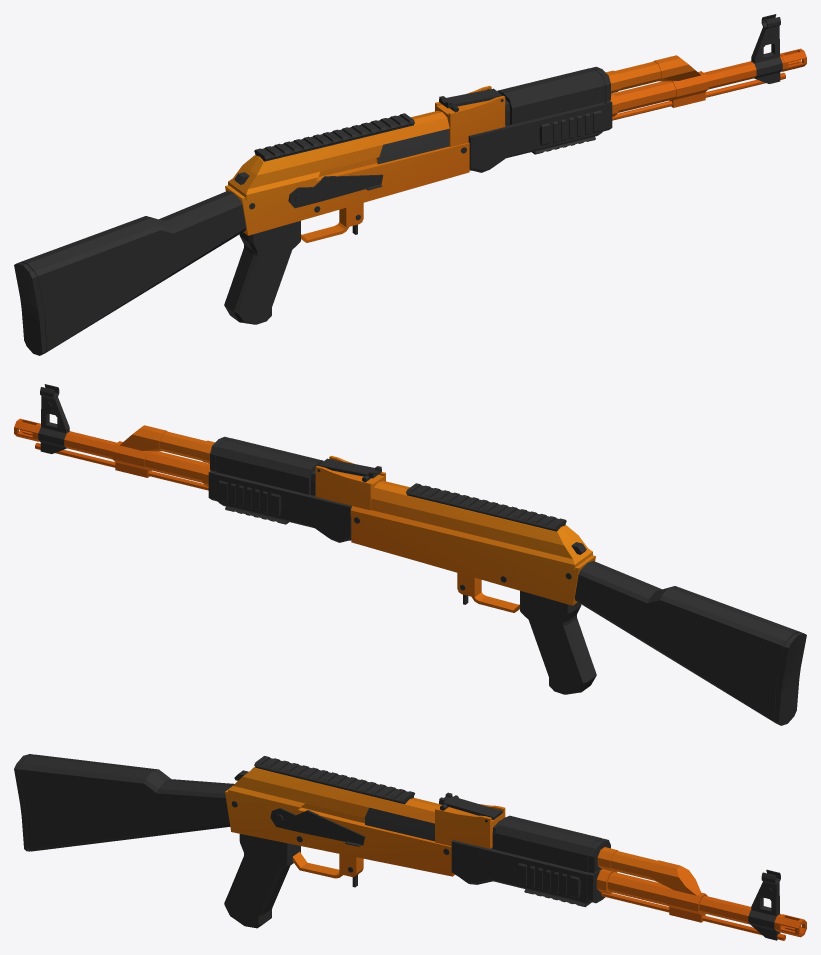
The model's file is AssaultRifle1_04.fbx.
3 views of the same model, one above another, from view 1: azimuth 30°, elevation 25°; view 2: azimuth 150°, elevation 25°; view 3: azimuth 330°, elevation 25° (orthographic).
Visible parts, largest first — view 1: AssaultRifle1_04; view 2: AssaultRifle1_04; view 3: AssaultRifle1_04.
Part boxes in pixels (x1,y1,x2,y2): AssaultRifle1_04: [14, 14, 806, 355]; AssaultRifle1_04: [14, 384, 806, 725]; AssaultRifle1_04: [14, 754, 806, 940].
Size of the model in its own units: 0.9618 by 0.2088 by 0.051.
